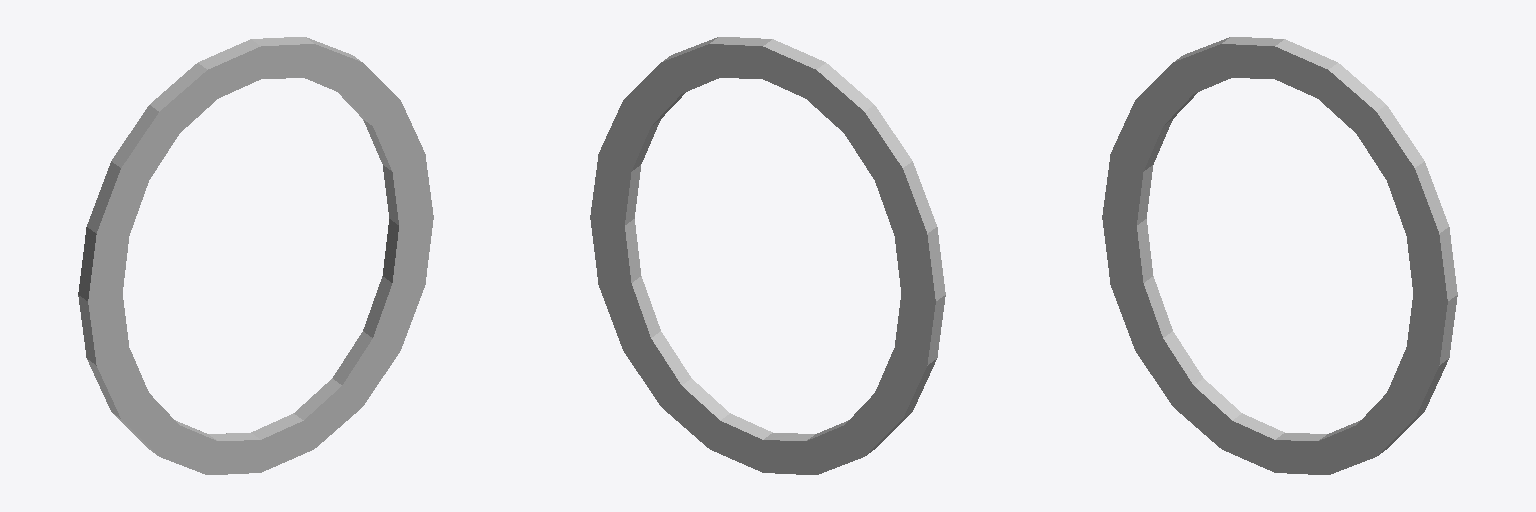
File: frame-round.obj
3 views of the same model, side by side, from view 1: azimuth 30°, elevation 25°; view 2: azimuth 150°, elevation 25°; view 3: azimuth 330°, elevation 25° (orthographic).
Bounding box in the file's own units: 0.2 × 0.2358 × 0.01.